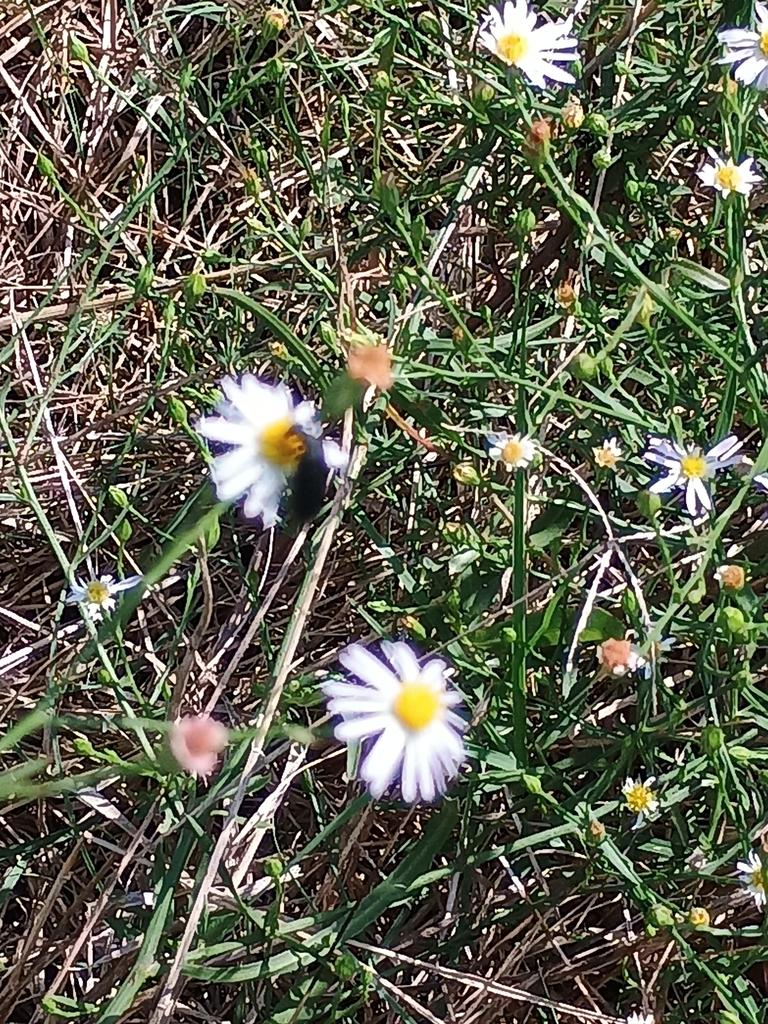blister_beetle: (275, 437, 341, 538)
